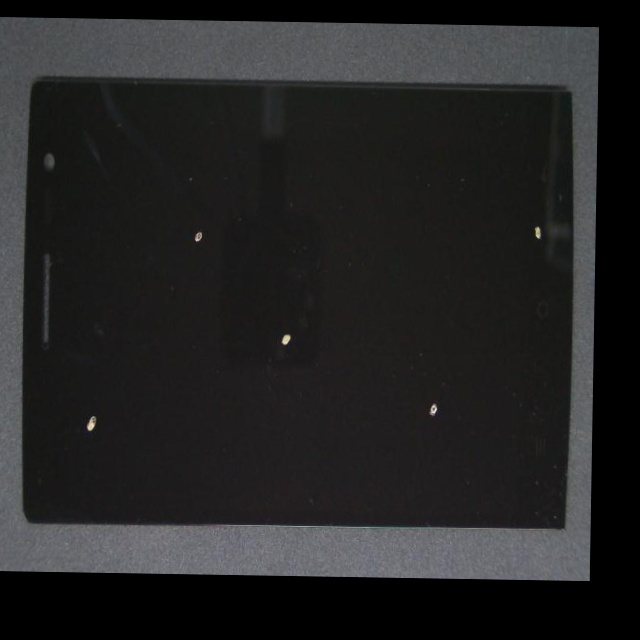stain: (186, 173, 597, 581), (98, 168, 427, 531), (234, 113, 598, 369), (54, 112, 288, 376), (1, 212, 139, 573)
